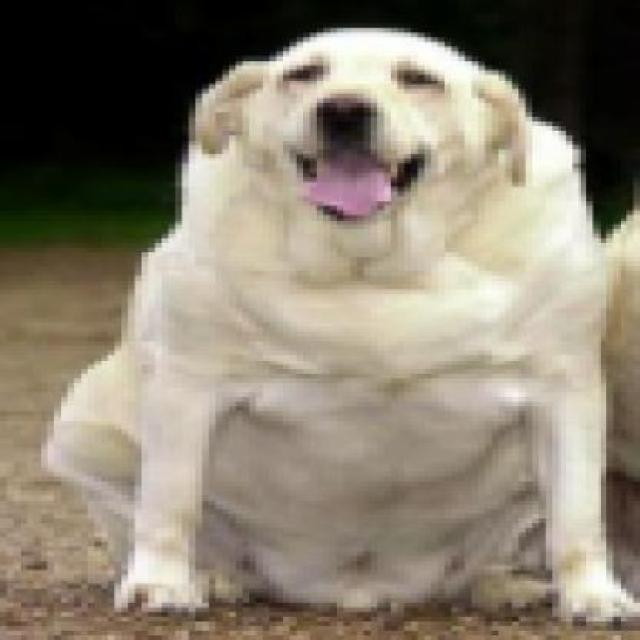Dog: (34, 19, 634, 636)
